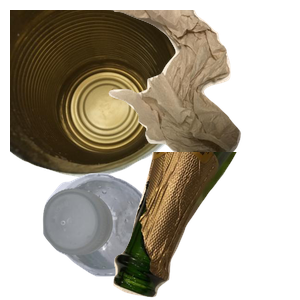glass: (111, 152, 300, 300)
metal: (10, 10, 200, 180)
plastic: (40, 170, 187, 300)
trash: (103, 10, 300, 173)
